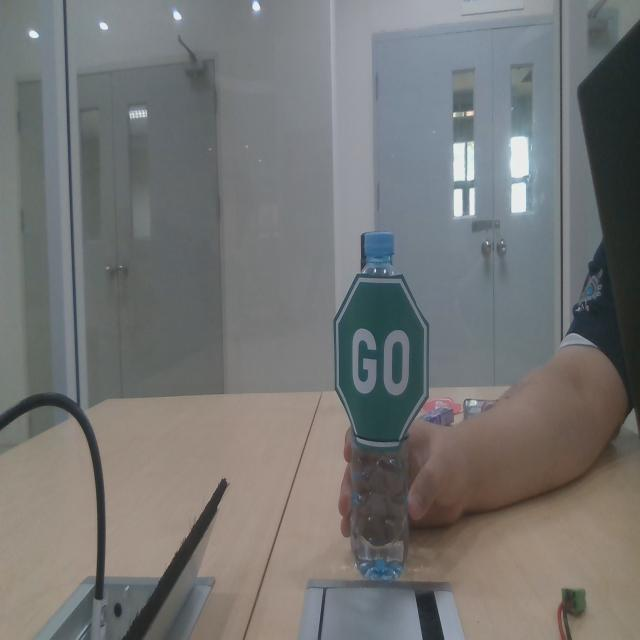Go: (326, 267, 432, 452)
